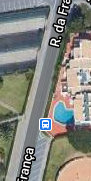pool: (56, 103, 71, 126)
